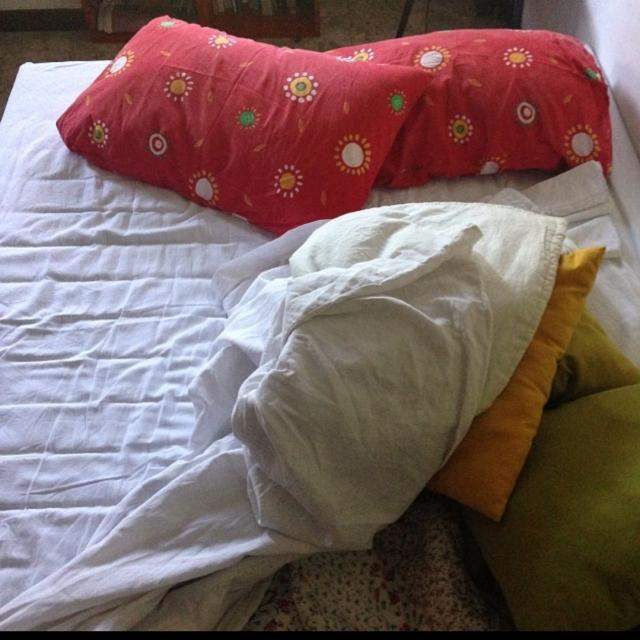bed: (0, 22, 640, 614)
